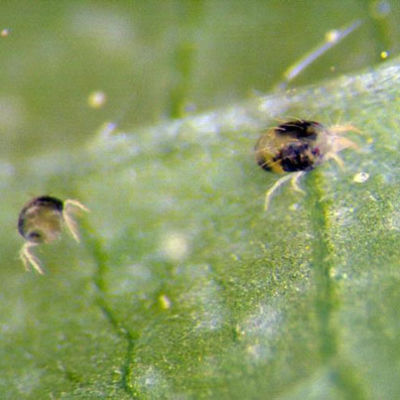Mites: (245, 106, 370, 209), (9, 178, 95, 294)
